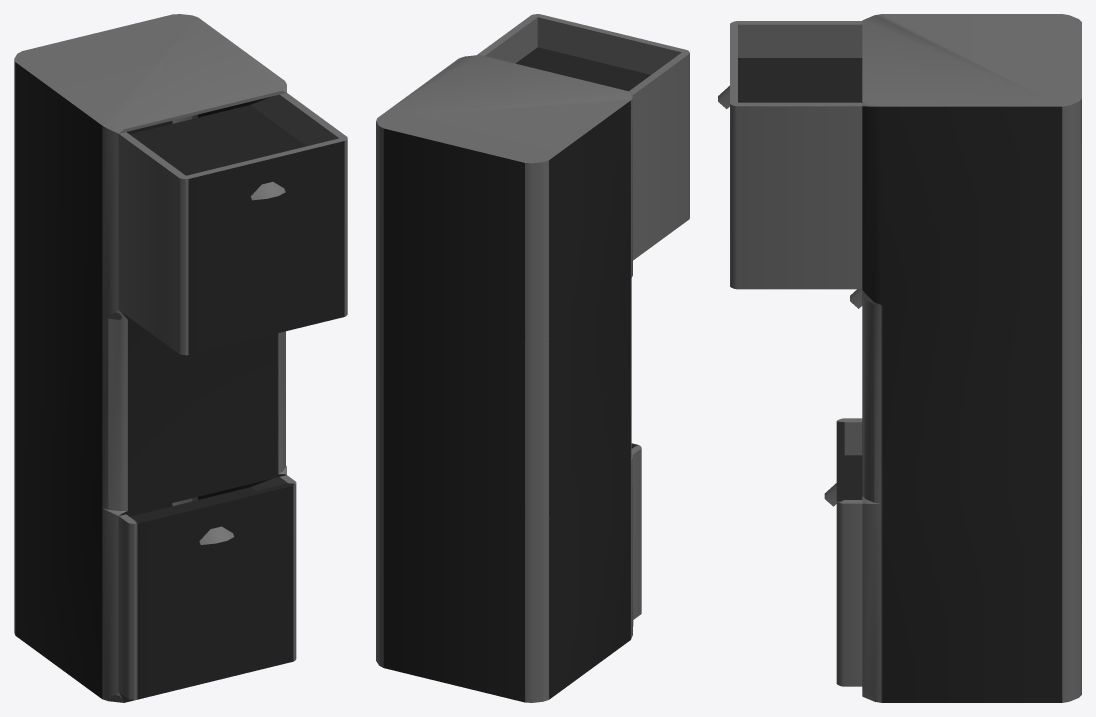
The model's file is Rak 3.FBX.
The picture shows the model from 3 angles, left to right: view 1: azimuth 30°, elevation 25°; view 2: azimuth 150°, elevation 25°; view 3: azimuth 270°, elevation 25°; orthographic projection. The views are drawn at different scales.
Visible parts, largest first — view 1: Plane003; view 2: Plane003; view 3: Plane003.
Part boxes in pixels (<box>): Plane003: <box>14,14,347,702</box>; Plane003: <box>376,14,689,702</box>; Plane003: <box>718,14,1081,702</box>.
Size of the model in its own units: 30 by 89.93 by 49.72.
